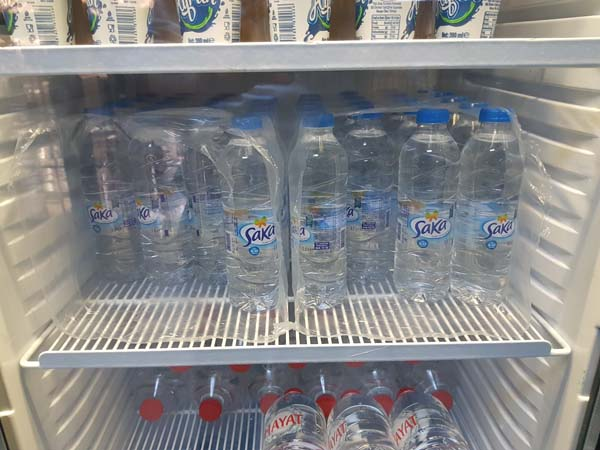hayat1000mlsu: (390, 385, 471, 450), (326, 381, 392, 450), (259, 385, 326, 450)
saka500mlsu: (219, 111, 293, 324), (454, 102, 524, 309), (285, 109, 355, 314), (341, 107, 407, 301), (394, 104, 457, 307)
